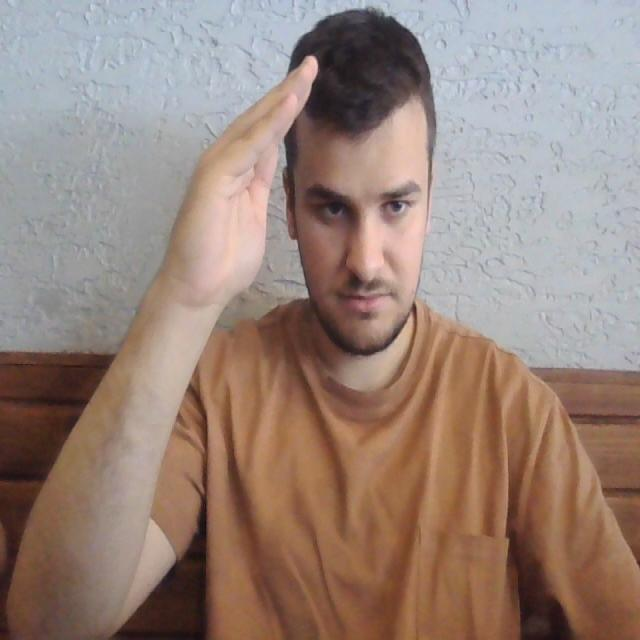Merhaba: (151, 33, 342, 324)
